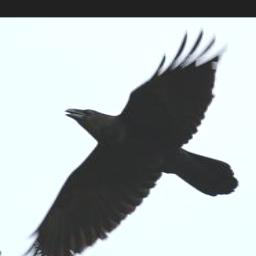Crow: (21, 25, 241, 256)
